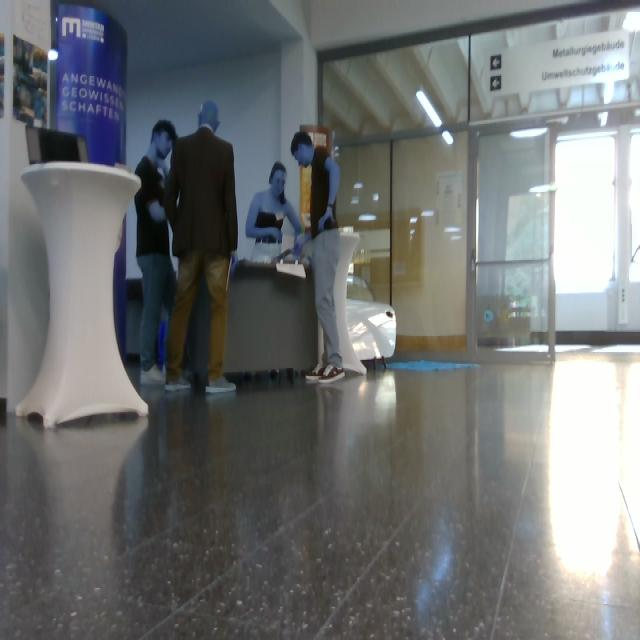desk: (227, 264, 318, 369), (128, 280, 143, 360)
door: (319, 12, 640, 362)
light bulb: (419, 90, 441, 128), (48, 49, 57, 62)
person: (166, 102, 238, 392), (292, 132, 344, 381), (135, 121, 177, 384), (245, 162, 304, 265)
pillar: (1, 1, 51, 412)
table: (16, 164, 148, 428), (334, 234, 365, 374)
tiled floor: (1, 358, 640, 640)
